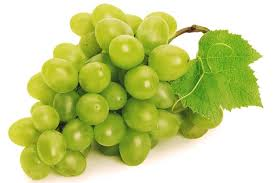Green grapes: (8, 3, 231, 180)
